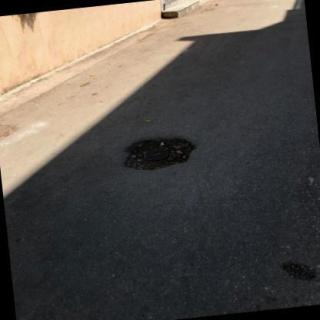pothole: (125, 138, 197, 170)
